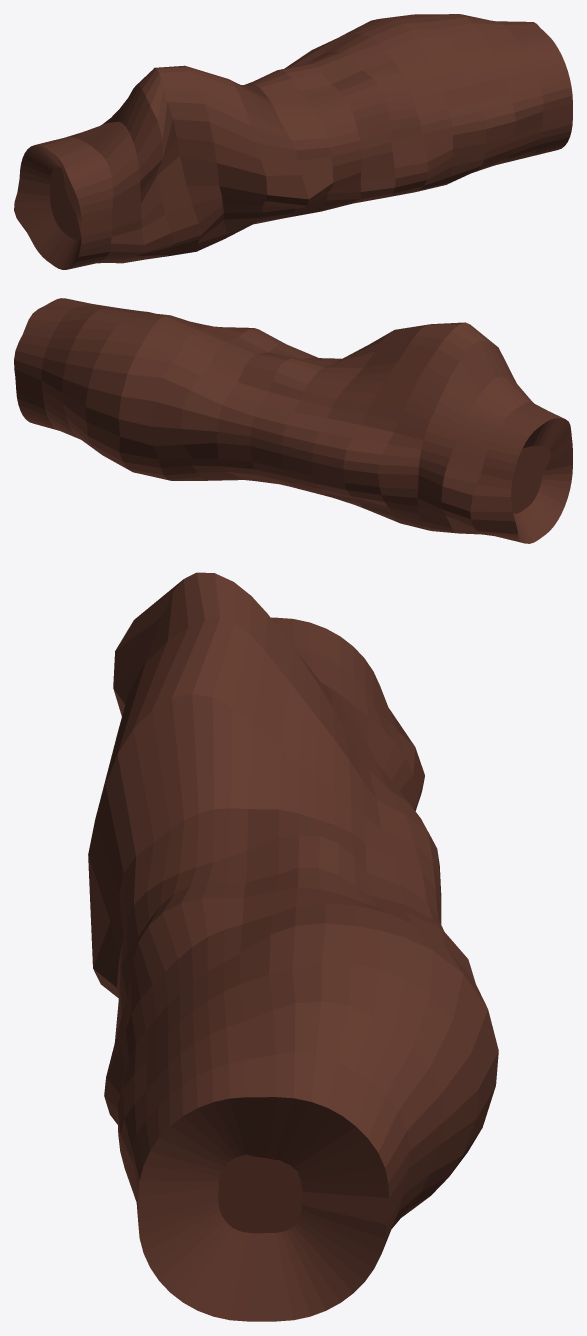
File: log2.fbx
The picture shows the model from 3 angles, top to bottom: view 1: azimuth 30°, elevation 25°; view 2: azimuth 150°, elevation 25°; view 3: azimuth 270°, elevation 25°; orthographic projection. The views are drawn at different scales.
Visible parts, largest first — view 1: Cube; view 2: Cube; view 3: Cube.
Boxes of the visible parts, x1,y1,x2,y2 form: Cube: [14, 14, 572, 269]; Cube: [14, 298, 572, 543]; Cube: [88, 572, 498, 1321].
Size of the model in its own units: 938 by 340 by 332.
